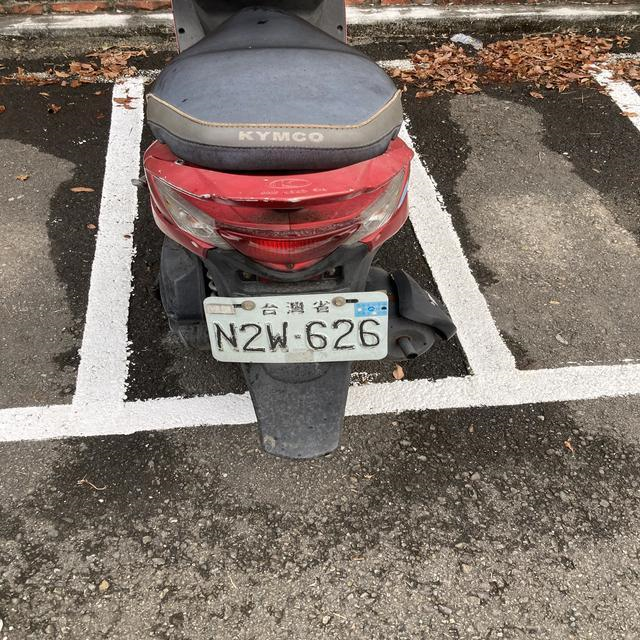license: (205, 305, 388, 360)
